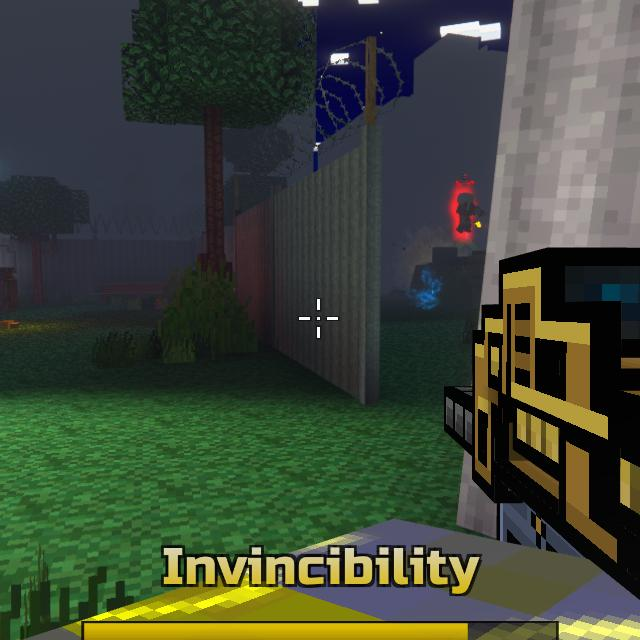Enemy: (456, 193, 478, 234)
